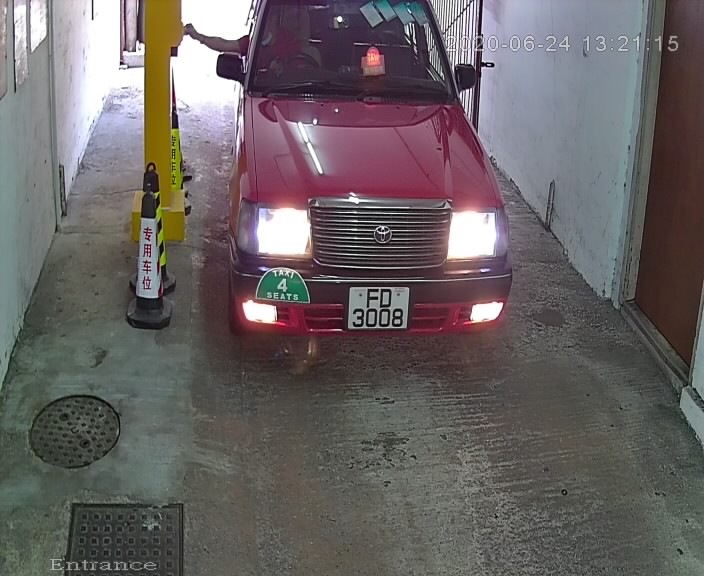Car: (199, 1, 533, 386)
License Plate: (344, 282, 412, 335)
